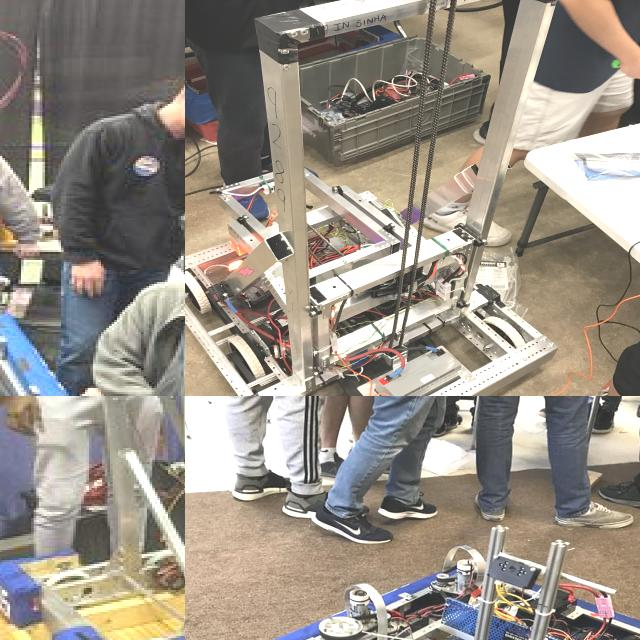FRC-Robots: (200, 0, 564, 396), (185, 396, 640, 640), (0, 0, 139, 396), (0, 396, 185, 640)
